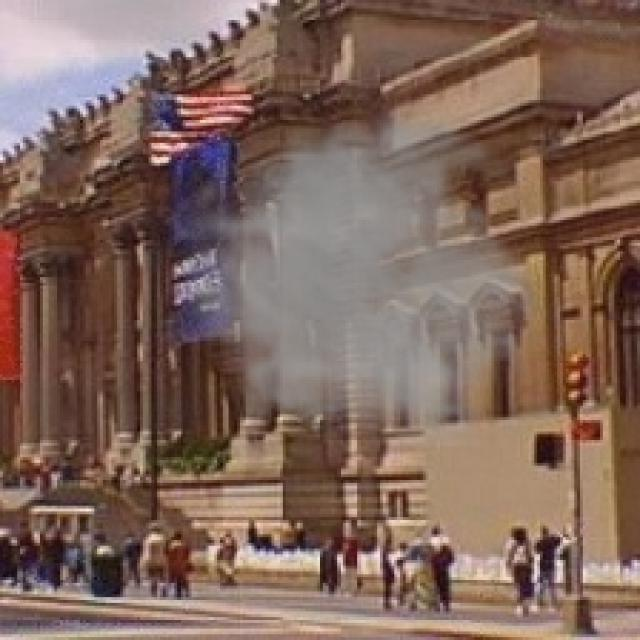Smoke: (160, 83, 549, 446)
